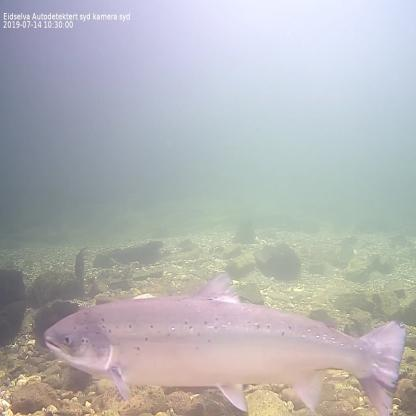salmon: (40, 268, 409, 416)
